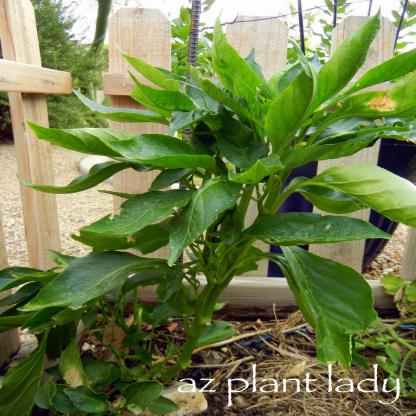Bell_pepper leaf: (278, 247, 379, 367), (27, 247, 167, 307), (313, 161, 415, 231), (170, 179, 241, 263), (79, 192, 192, 243), (251, 211, 396, 250), (112, 127, 220, 179), (204, 19, 269, 99), (30, 122, 146, 165), (324, 11, 373, 105), (268, 75, 319, 153), (203, 108, 270, 166), (20, 168, 138, 196)
